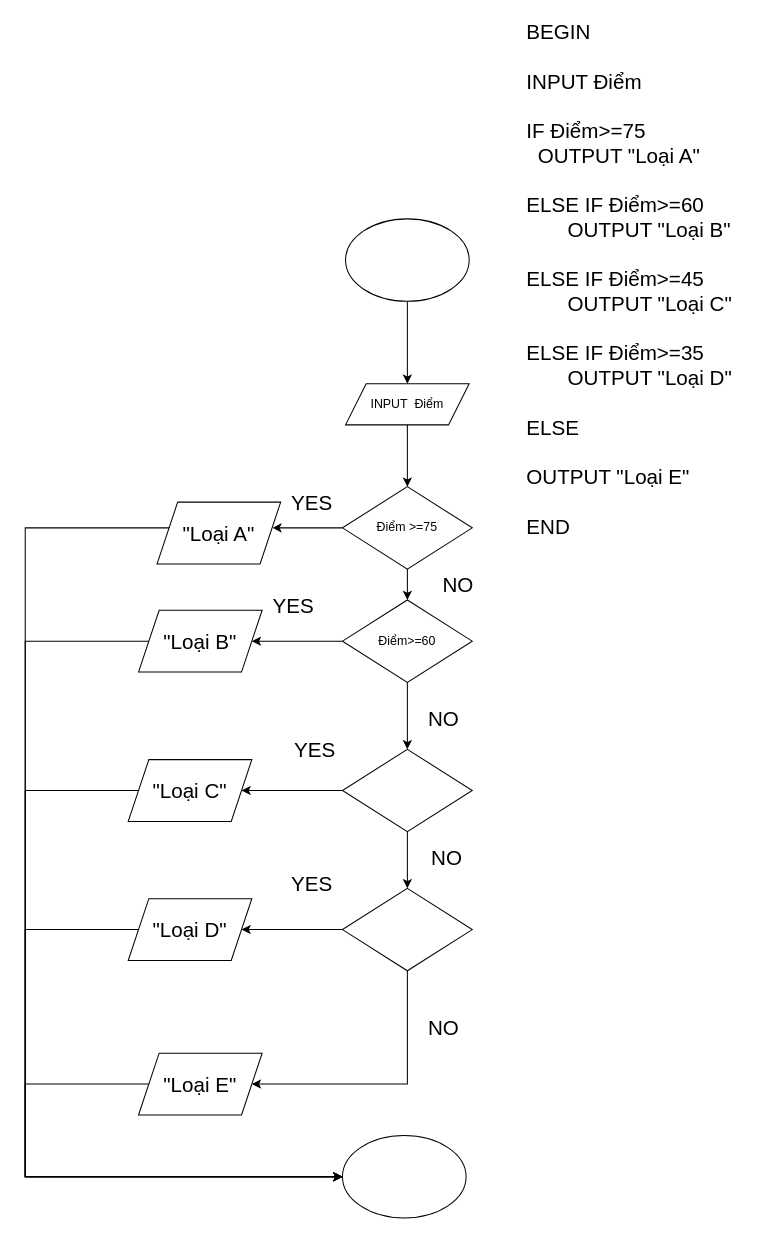
Some shapes in this 759 by 1236 pixel diagram are drawn without their labels. The centre of each missing label's shape, as x and y in pixels:
BEGIN: (x=407, y=259)
END: (x=403, y=1176)
Điểm>=35: (x=406, y=929)
Điểm>=45: (x=406, y=790)
